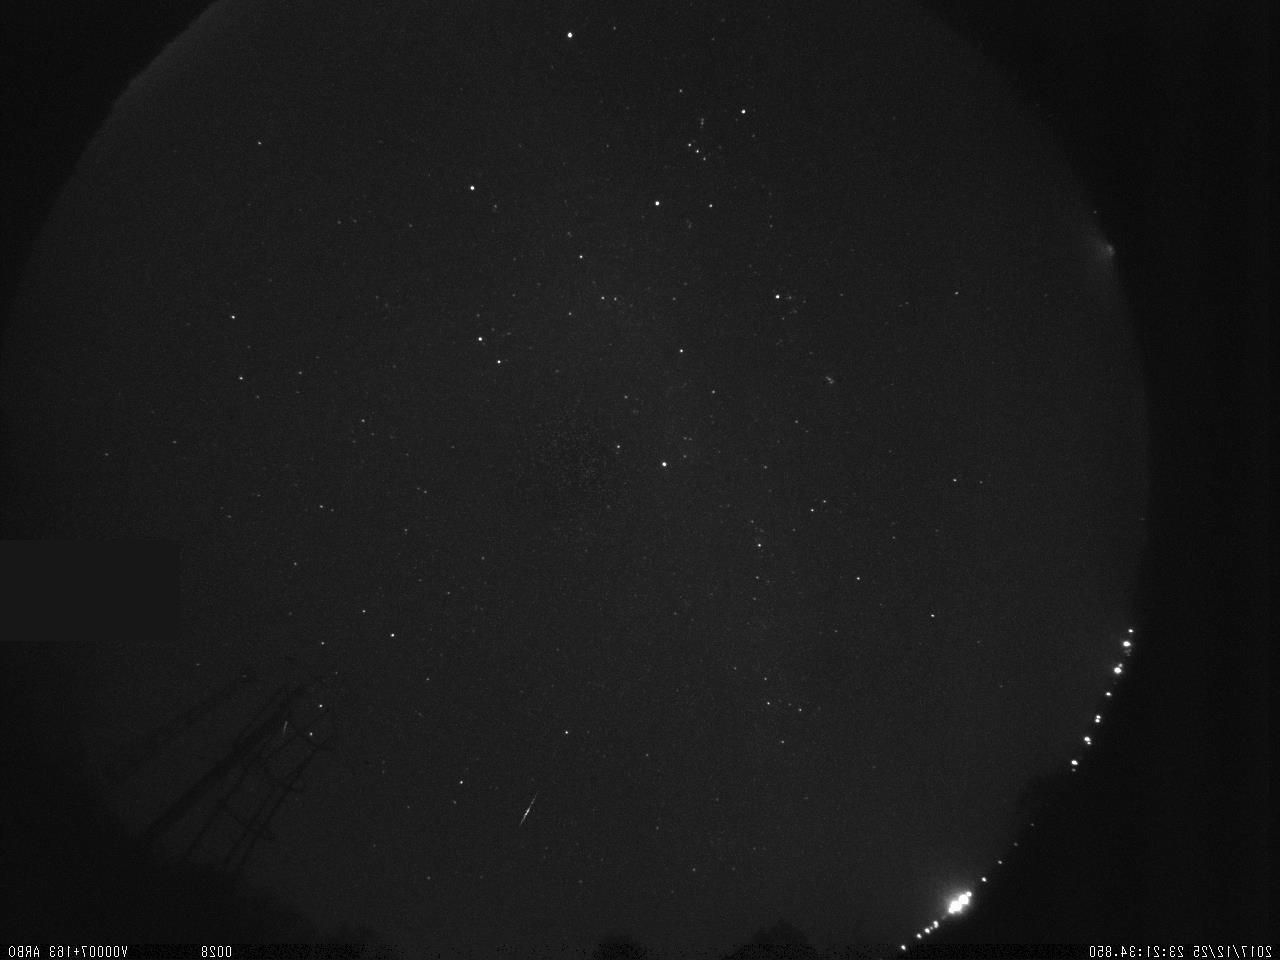meteor: (512, 792, 544, 831)
